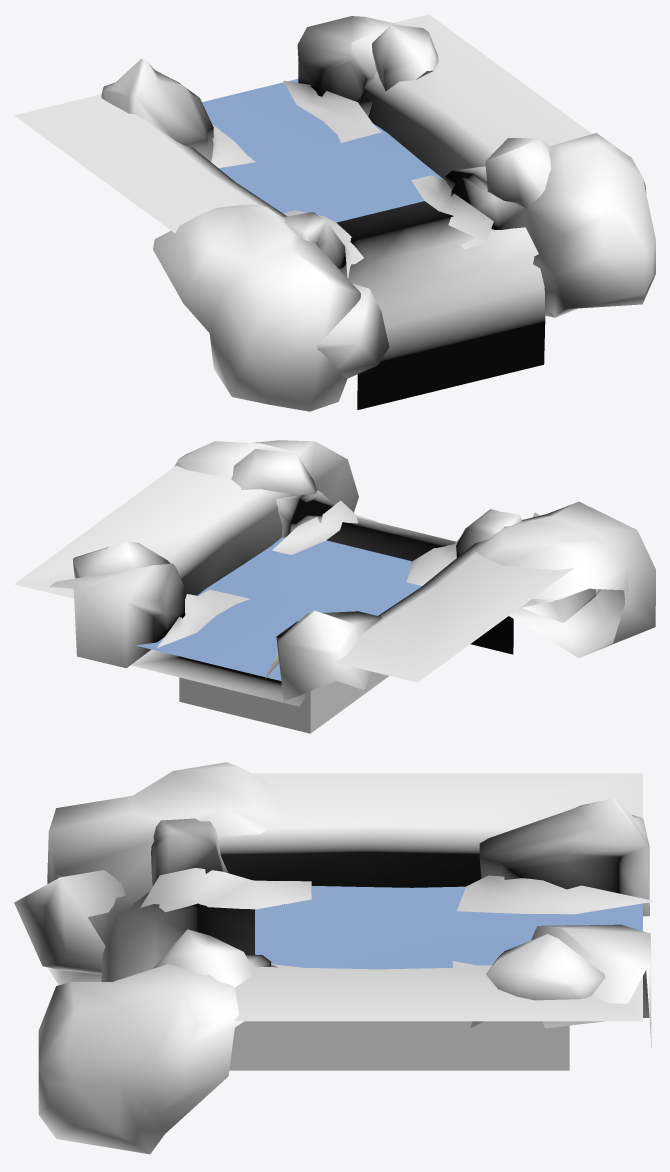
File: Plattform-Tiles.fbx_Block_Wasserfall.fbx
The picture shows the model from 3 angles, top to bottom: view 1: azimuth 30°, elevation 25°; view 2: azimuth 150°, elevation 25°; view 3: azimuth 270°, elevation 25°; orthographic projection. The views are drawn at different scales.
Visible parts, largest first — view 1: Block_Wasserfall, Wasserfall_Wasser, Stromschnellen; view 2: Block_Wasserfall, Block_Wasserfall.3-colbox, Stromschnellen, Wasserfall_Wasser; view 3: Block_Wasserfall, Block_Wasserfall.3-colbox, Stromschnellen, Wasserfall_Wasser.
Boxes of the visible parts, x1=… form: Block_Wasserfall: x1=14, y1=14, x2=655, y2=411; Wasserfall_Wasser: x1=336, y1=201, x2=545, y2=409; Stromschnellen: x1=211, y1=80, x2=493, y2=278; Block_Wasserfall: x1=14, y1=440, x2=655, y2=706; Block_Wasserfall.3-colbox: x1=179, y1=672, x2=388, y2=733; Stromschnellen: x1=157, y1=500, x2=459, y2=678; Wasserfall_Wasser: x1=326, y1=517, x2=513, y2=654; Block_Wasserfall: x1=14, y1=762, x2=651, y2=1154; Block_Wasserfall.3-colbox: x1=229, y1=1021, x2=569, y2=1070; Stromschnellen: x1=140, y1=867, x2=654, y2=967; Wasserfall_Wasser: x1=101, y1=892, x2=254, y2=981.
Size of what is drawn, in the model's own units: 438 by 184 by 452.
